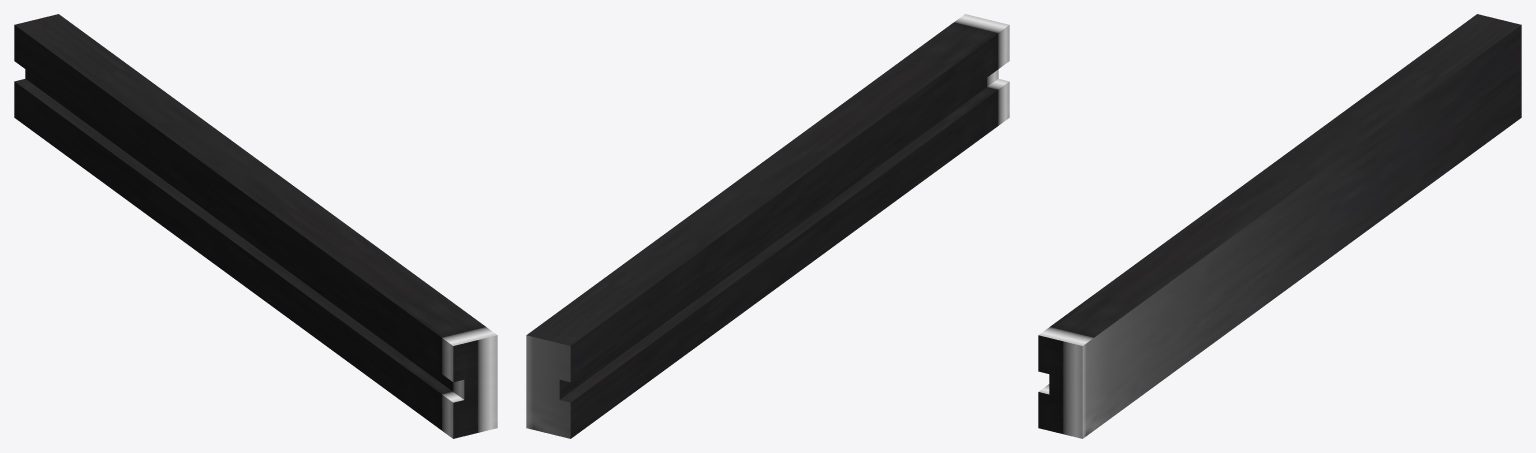
Rendered from original-30.obj.
3 renders of one model, left to right at view 1: azimuth 30°, elevation 25°; view 2: azimuth 150°, elevation 25°; view 3: azimuth 330°, elevation 25°, orthographic.
Parts seen in each view (by area): view 1: Spacer1/Spacer/mesh70/mesh70-geometry#mesh70-geometry; view 2: Spacer1/Spacer/mesh70/mesh70-geometry#mesh70-geometry; view 3: Spacer1/Spacer/mesh70/mesh70-geometry#mesh70-geometry.
Part boxes in pixels (x1,y1,x2,y2): Spacer1/Spacer/mesh70/mesh70-geometry#mesh70-geometry: [14, 14, 497, 438]; Spacer1/Spacer/mesh70/mesh70-geometry#mesh70-geometry: [526, 14, 1009, 438]; Spacer1/Spacer/mesh70/mesh70-geometry#mesh70-geometry: [1038, 14, 1521, 438].
Bounding box in the file's own units: 0.0296 × 0.0593 × 0.5076.
